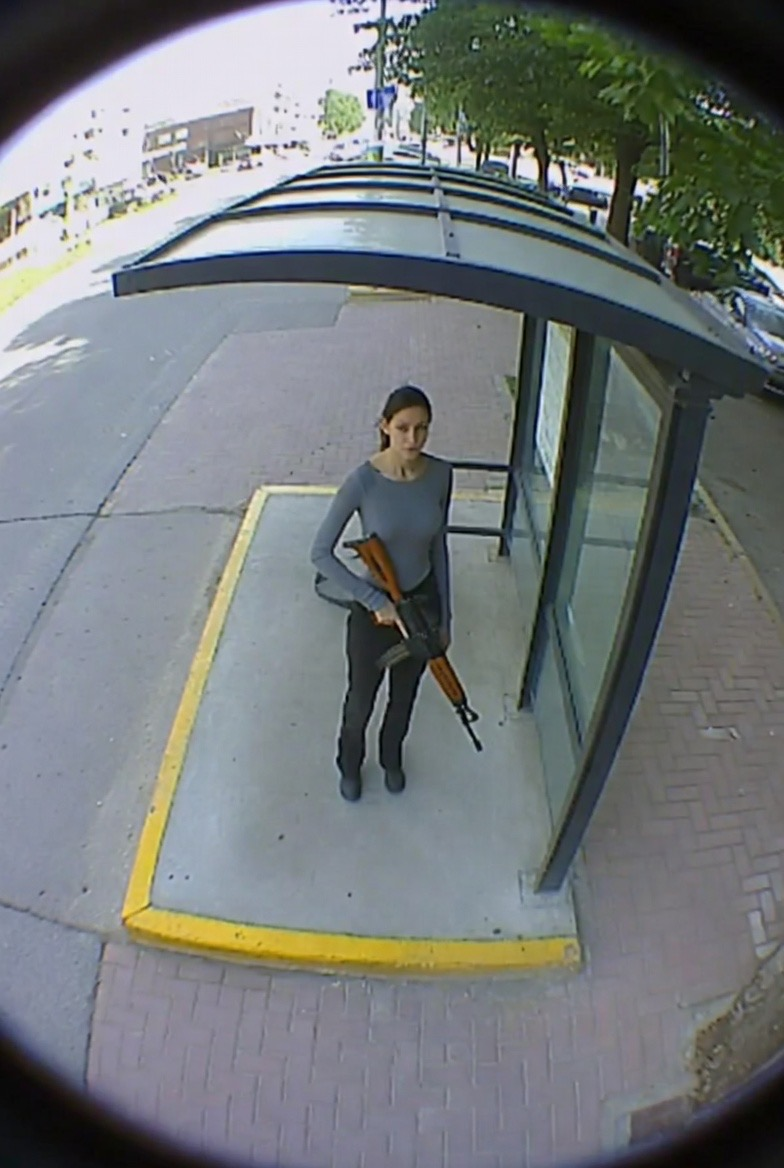person: (310, 384, 457, 801)
weapon: (340, 531, 484, 753)
